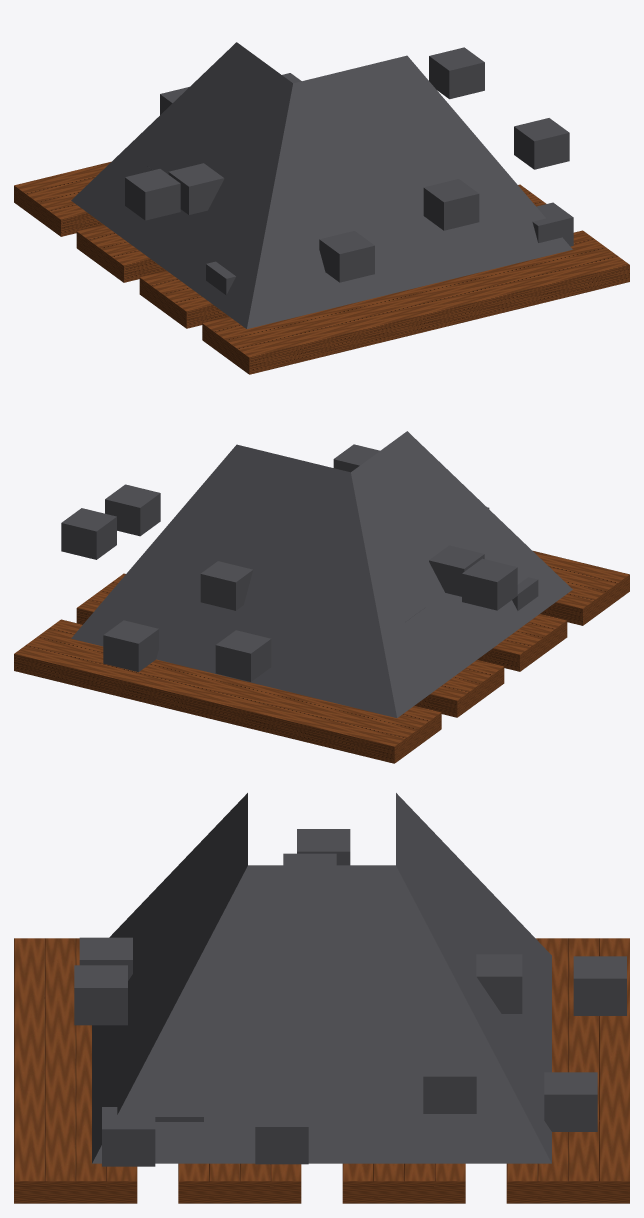
The model's file is blacksmith-forge-and-armoury-blacksmith-forge-and-armo-4deb9bce__37564.glb.
The picture shows the model from 3 angles, top to bottom: view 1: azimuth 30°, elevation 25°; view 2: azimuth 150°, elevation 25°; view 3: azimuth 270°, elevation 25°; orthographic projection. The views are drawn at different scales.
Visible parts, largest first — view 1: blacksmith-forge-and-armoury-charcoal-heap; view 2: blacksmith-forge-and-armoury-charcoal-heap; view 3: blacksmith-forge-and-armoury-charcoal-heap.
Part boxes in pixels (<box>): blacksmith-forge-and-armoury-charcoal-heap: <box>14,42,629,374</box>; blacksmith-forge-and-armoury-charcoal-heap: <box>14,431,629,763</box>; blacksmith-forge-and-armoury-charcoal-heap: <box>14,793,629,1203</box>.
Bounding box in the file's own units: 1.52 × 0.6801 × 1.5.
2 materials, 1 textured.
